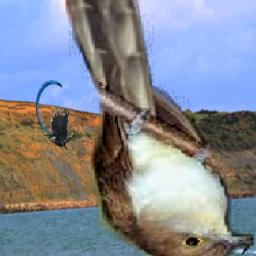Crow: (43, 107, 75, 154)
Cuckoo: (66, 0, 254, 256)
